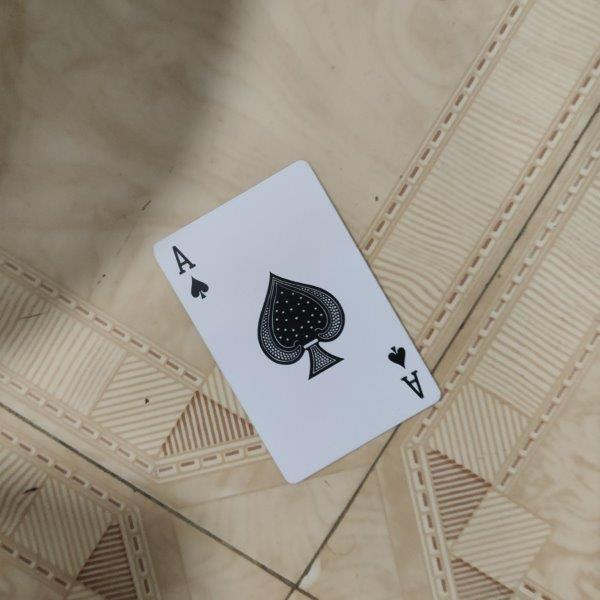Ace of Spades: (152, 159, 444, 485)
